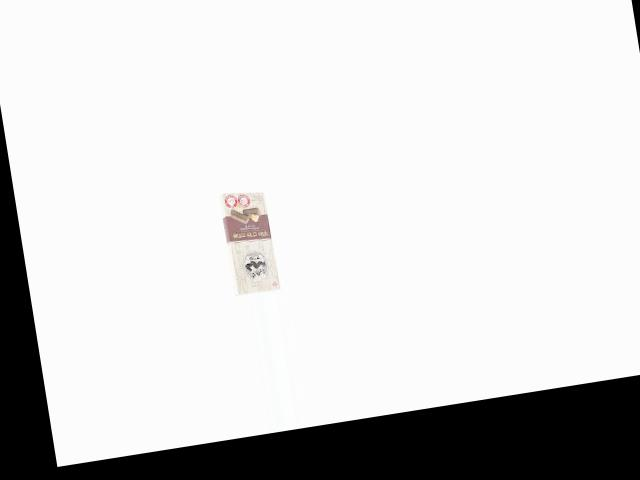chocolate: (210, 185, 282, 297)
